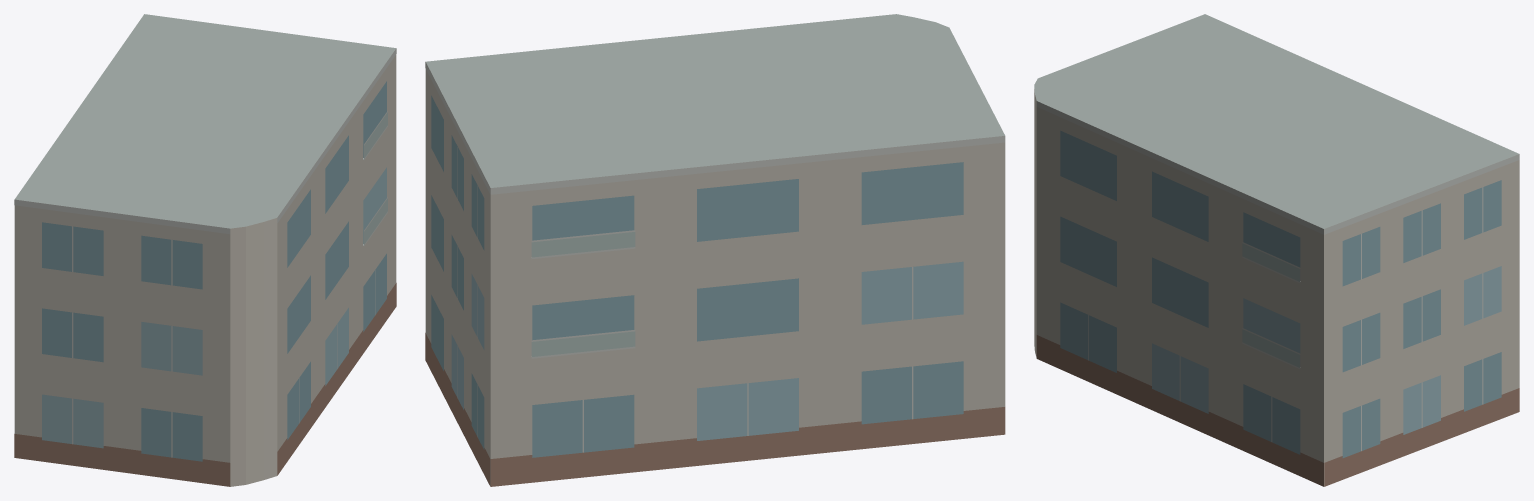
File: survey-upis-32839785.glb
3 views of the same model, side by side, from view 1: azimuth 30°, elevation 25°; view 2: azimuth 150°, elevation 25°; view 3: azimuth 270°, elevation 25° (orthographic). The views are drawn at different scales.
Visible parts, largest first — view 1: survey-upis-32839785.tmp; view 2: survey-upis-32839785.tmp; view 3: survey-upis-32839785.tmp.
Boxes of the visible parts, x1,y1,x2,y2 form: survey-upis-32839785.tmp: (14, 14, 396, 486); survey-upis-32839785.tmp: (425, 14, 1005, 486); survey-upis-32839785.tmp: (1034, 14, 1519, 486).
Size of the model in its own units: 19.46 by 10.87 by 18.56.
